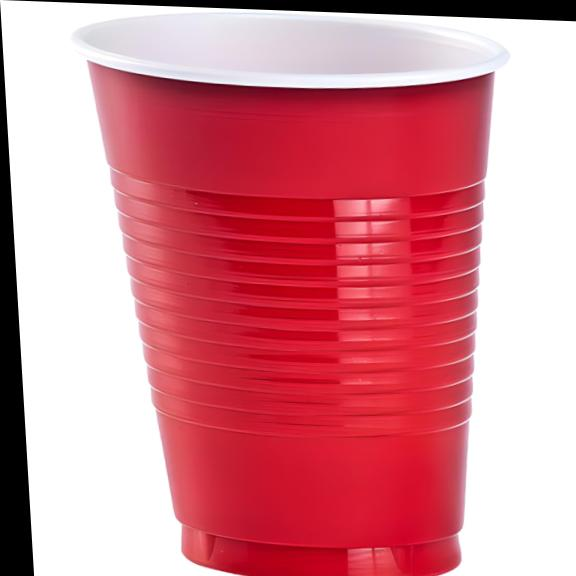Plastik: (73, 14, 508, 575)
